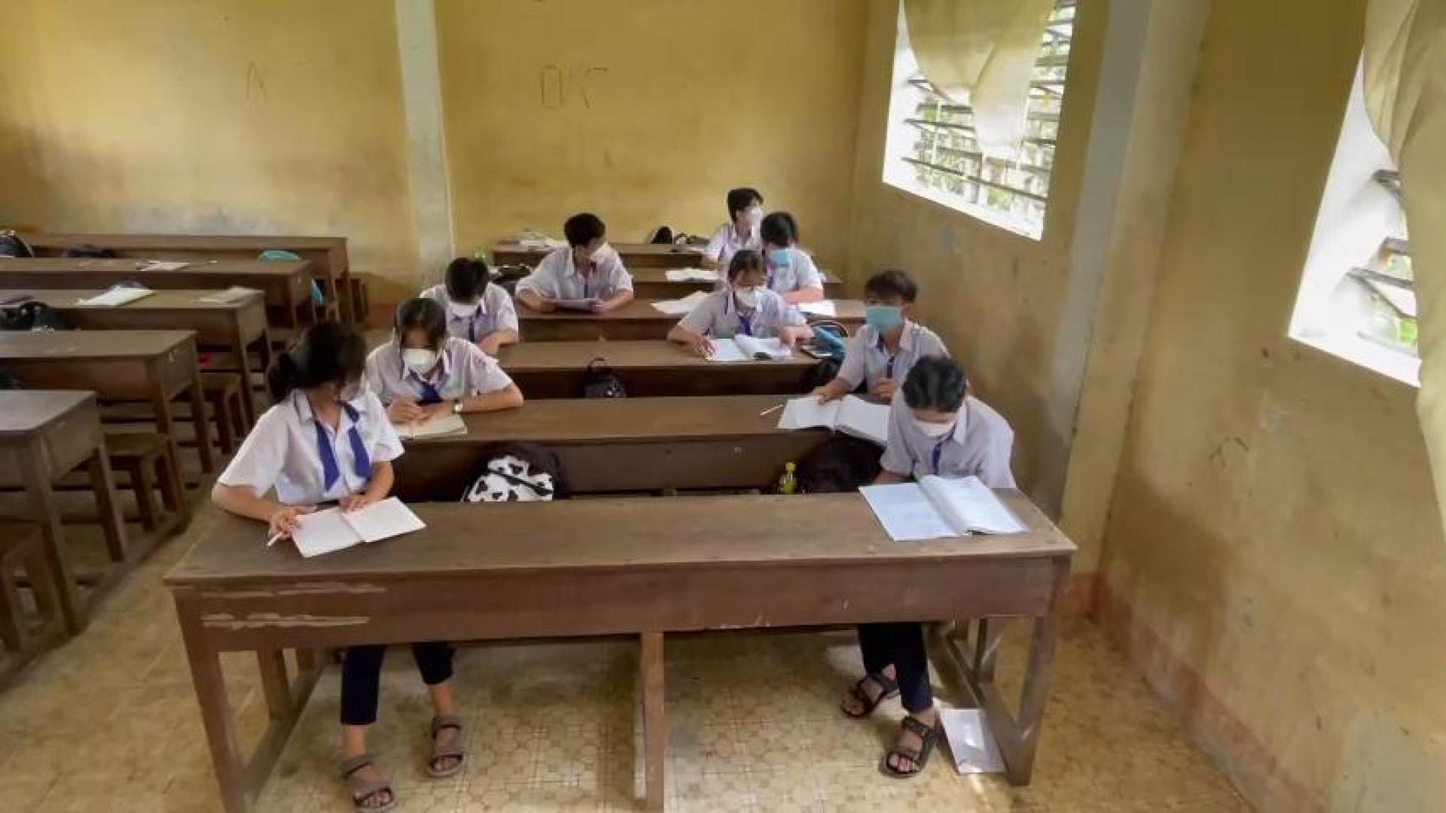Bend Over The Desk: (889, 339, 979, 452)
Look Around: (262, 315, 371, 417), (540, 191, 623, 283), (708, 174, 765, 234)
